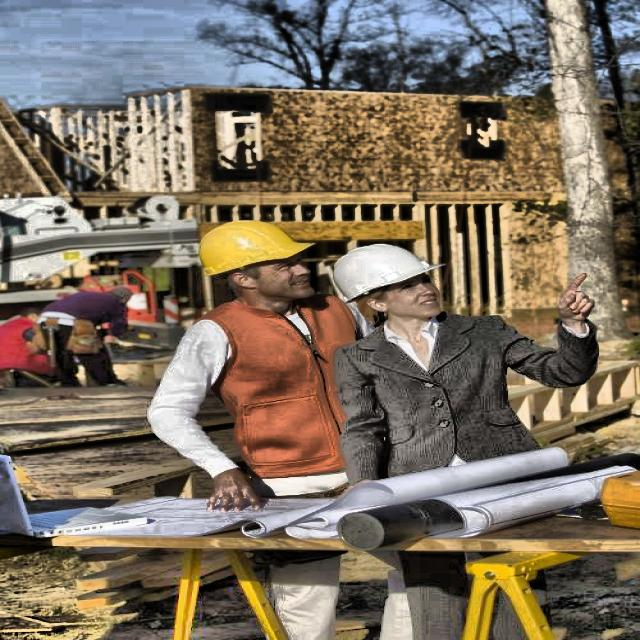helmet: (184, 215, 324, 311), (334, 232, 457, 331)
